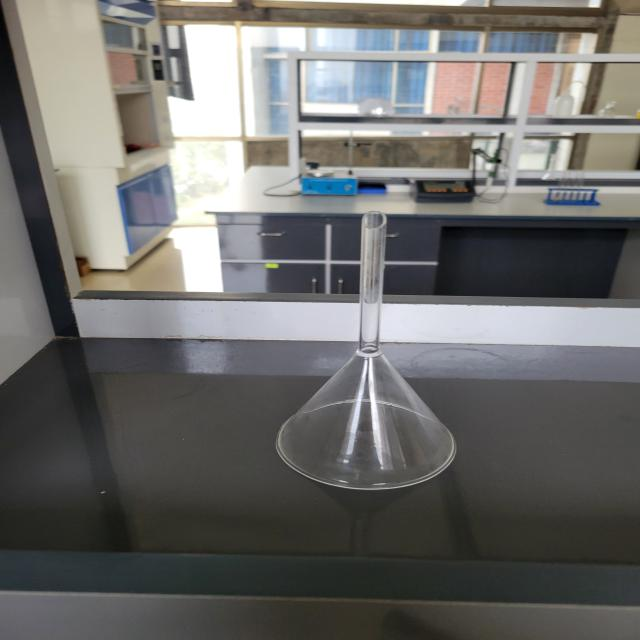Funnel: (237, 169, 488, 517)
